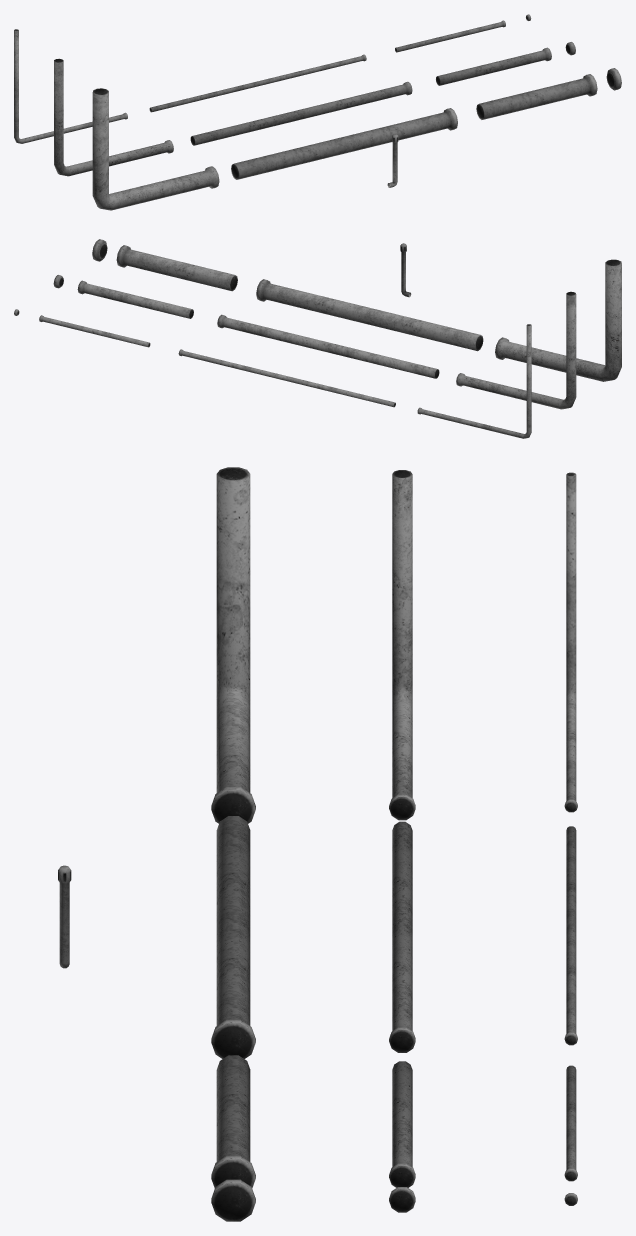
Rendered from Pipe.fbx.
3 views of the same model, one above another, from view 1: azimuth 30°, elevation 25°; view 2: azimuth 150°, elevation 25°; view 3: azimuth 270°, elevation 25° (orthographic). The views are drawn at different scales.
Parts seen in each view (by area): view 1: LargePipe_Straight, LargePipe_Corner, MediumPipe_Straight, MediumPipe_Corner, LargePipe_Half, MediumPipe_Half, SmallPipe_Straight, SmallPipe_Corner, SmallPipe_Half, Pipe_End; view 2: LargePipe_Straight, LargePipe_Corner, MediumPipe_Straight, MediumPipe_Corner, LargePipe_Half, SmallPipe_Corner, MediumPipe_Half, SmallPipe_Straight, SmallPipe_Half, Pipe_End; view 3: LargePipe_Corner, LargePipe_Straight, MediumPipe_Corner, MediumPipe_Straight, LargePipe_Half, SmallPipe_Corner, MediumPipe_Half, SmallPipe_Straight, LargePipeConnector, SmallPipe_Half, Pipe_End.
Part boxes in pixels (x1=…): LargePipe_Straight: x1=231, y1=108, x2=457, y2=179; LargePipe_Corner: x1=92, y1=88, x2=219, y2=210; MediumPipe_Straight: x1=190, y1=81, x2=412, y2=145; MediumPipe_Corner: x1=54, y1=58, x2=173, y2=176; LargePipe_Half: x1=476, y1=74, x2=597, y2=119; MediumPipe_Half: x1=436, y1=47, x2=551, y2=85; SmallPipe_Straight: x1=149, y1=54, x2=366, y2=112; SmallPipe_Corner: x1=14, y1=29, x2=127, y2=143; SmallPipe_Half: x1=395, y1=20, x2=505, y2=52; Pipe_End: x1=387, y1=134, x2=398, y2=187; LargePipe_Straight: x1=256, y1=279, x2=483, y2=351; LargePipe_Corner: x1=495, y1=259, x2=621, y2=381; MediumPipe_Straight: x1=217, y1=314, x2=439, y2=378; MediumPipe_Corner: x1=456, y1=291, x2=576, y2=409; LargePipe_Half: x1=116, y1=245, x2=237, y2=291; SmallPipe_Corner: x1=417, y1=324, x2=531, y2=438; MediumPipe_Half: x1=77, y1=280, x2=193, y2=318; SmallPipe_Straight: x1=178, y1=349, x2=395, y2=407; SmallPipe_Half: x1=39, y1=315, x2=150, y2=347; Pipe_End: x1=400, y1=243, x2=411, y2=297; LargePipe_Corner: x1=211, y1=467, x2=255, y2=823; LargePipe_Straight: x1=211, y1=816, x2=255, y2=1058; MediumPipe_Corner: x1=389, y1=470, x2=415, y2=820; MediumPipe_Straight: x1=389, y1=821, x2=415, y2=1052; LargePipe_Half: x1=211, y1=1055, x2=255, y2=1188; SmallPipe_Corner: x1=564, y1=472, x2=577, y2=812; MediumPipe_Half: x1=389, y1=1061, x2=415, y2=1187; SmallPipe_Straight: x1=564, y1=826, x2=577, y2=1045; LargePipeConnector: x1=211, y1=1179, x2=255, y2=1221; SmallPipe_Half: x1=564, y1=1065, x2=577, y2=1181; Pipe_End: x1=58, y1=865, x2=71, y2=968.
Size of the model in its own units: 7.14 by 1.63 by 3.08.
